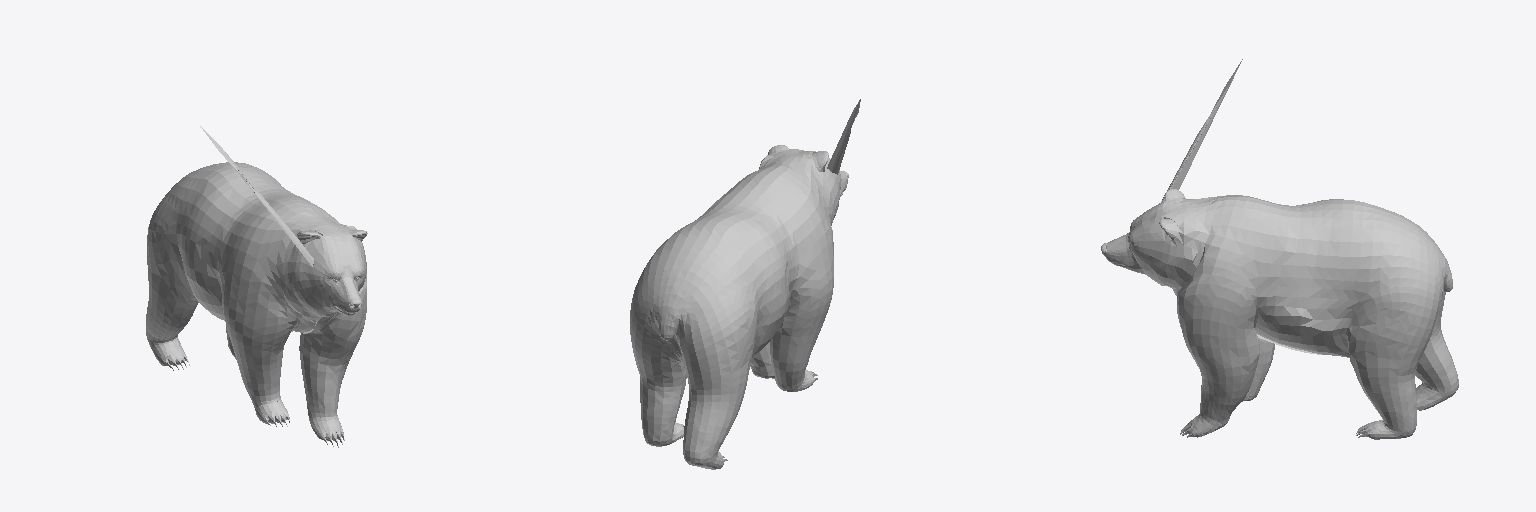
Rendered from Bear0129.obj.
3 renders of one model, left to right at view 1: azimuth 30°, elevation 25°; view 2: azimuth 150°, elevation 25°; view 3: azimuth 270°, elevation 25°, orthographic.
Parts seen in each view (by area): view 1: Object_237; view 2: Object_237; view 3: Object_237.
Part boxes in pixels (x1,y1,x2,y2): Object_237: (146,126,367,447); Object_237: (630,99,860,469); Object_237: (1101,59,1458,439).
Size of the model in its own units: 2.38 by 4.94 by 4.92.